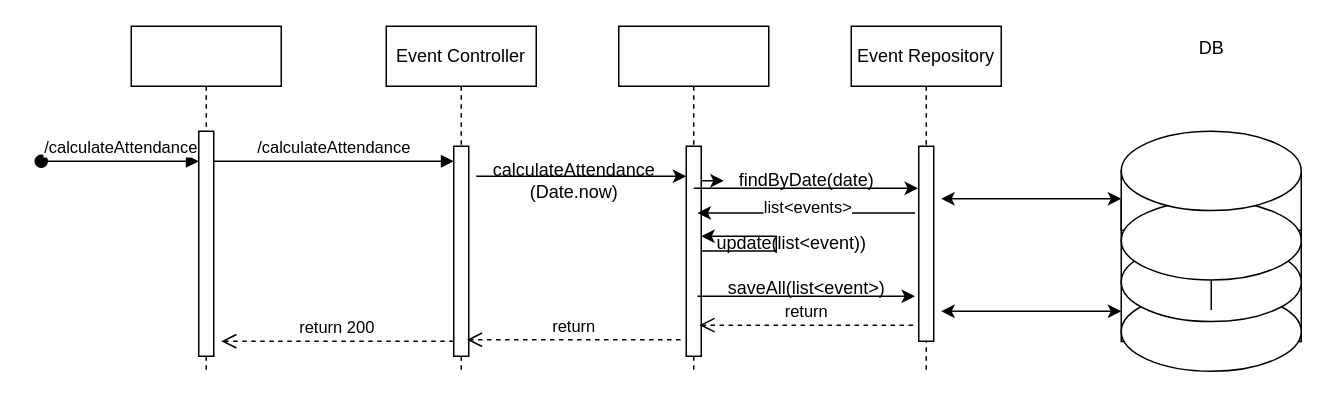
Image size: 1328x398. Some labels were removed from this diagram. Here are the shapes that lost their labels. From the top down, the box of each, then its label:
(130, 25, 281, 371): API Gateway
(617, 25, 769, 371): Event Service
